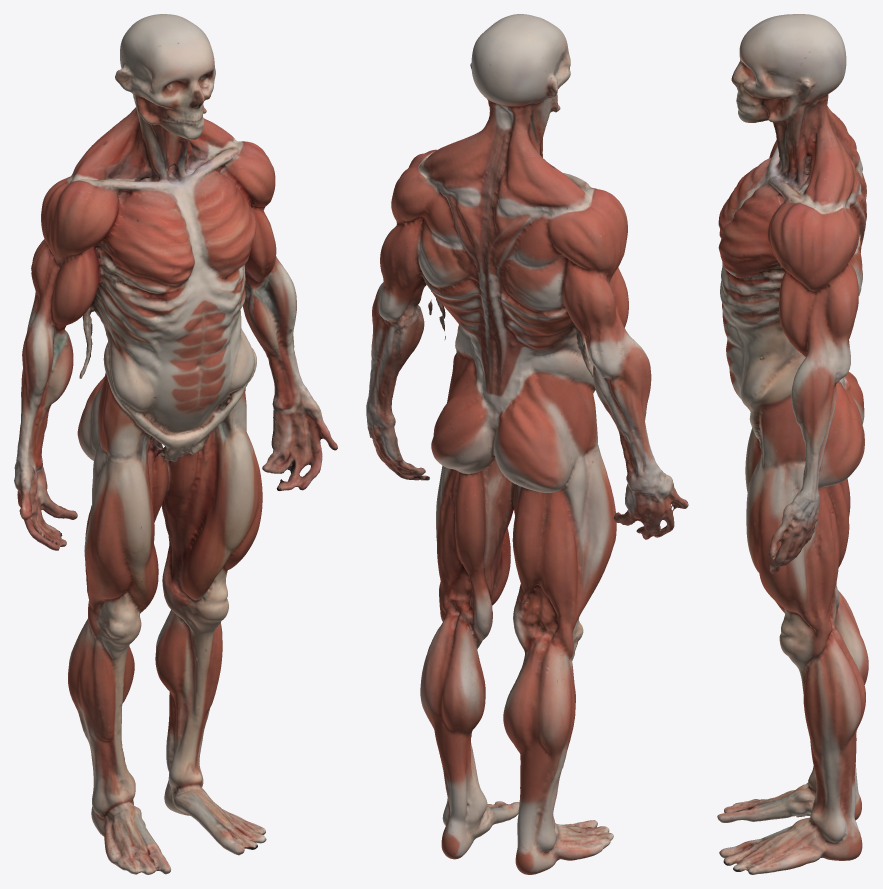
The model's file is Meshy_AI_Human_ecorche_full_bo_0506161047_texture.glb.
3 renders of one model, left to right at view 1: azimuth 30°, elevation 25°; view 2: azimuth 150°, elevation 25°; view 3: azimuth 270°, elevation 25°, orthographic.
Size of the model in its own units: 0.8102 by 2 by 0.3347.
1 material, 1 textured.
